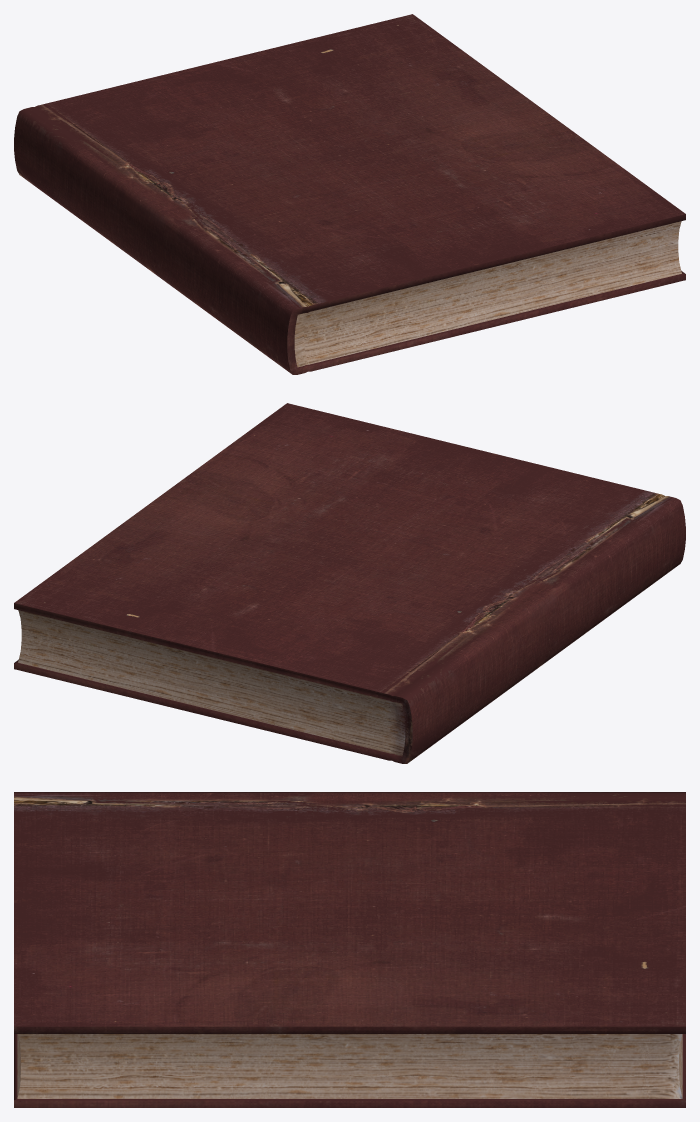
File: book_01.fbx
The picture shows the model from 3 angles, top to bottom: view 1: azimuth 30°, elevation 25°; view 2: azimuth 150°, elevation 25°; view 3: azimuth 270°, elevation 25°; orthographic projection. The views are drawn at different scales.
Visible parts, largest first — view 1: book_01; view 2: book_01; view 3: book_01.
Boxes of the visible parts, left/top/right/bottom form: book_01: left=14, top=14, right=685, bottom=374; book_01: left=14, top=403, right=685, bottom=763; book_01: left=14, top=792, right=685, bottom=1107.
Size of the model in its own units: 36.47 by 5.77 by 43.27.
